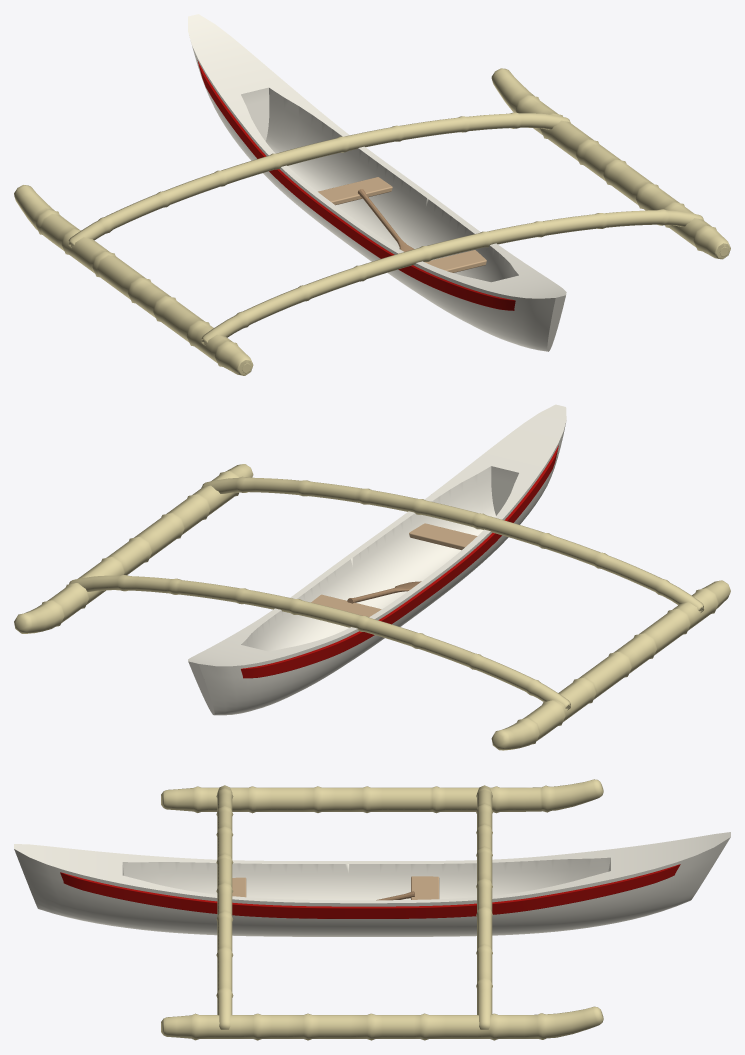
File: boat_bangka_17838.glb
3 views of the same model, one above another, from view 1: azimuth 30°, elevation 25°; view 2: azimuth 150°, elevation 25°; view 3: azimuth 270°, elevation 25° (orthographic). The views are drawn at different scales.
Visible parts, largest first — view 1: bangka_17838_bamboo, bangka_17838_paint_hull, bangka_17838_paint_trim, bangka_17838_plank; view 2: bangka_17838_bamboo, bangka_17838_paint_hull, bangka_17838_paint_trim, bangka_17838_plank; view 3: bangka_17838_paint_hull, bangka_17838_bamboo, bangka_17838_paint_trim, bangka_17838_plank.
Boxes of the visible parts, <box> form: bangka_17838_bamboo: <box>14,68,730,375</box>; bangka_17838_paint_hull: <box>188,14,566,351</box>; bangka_17838_paint_trim: <box>197,60,515,310</box>; bangka_17838_plank: <box>318,177,486,272</box>; bangka_17838_bamboo: <box>14,464,730,750</box>; bangka_17838_paint_hull: <box>188,404,566,715</box>; bangka_17838_paint_trim: <box>241,445,558,678</box>; bangka_17838_plank: <box>311,523,477,616</box>; bangka_17838_paint_hull: <box>14,832,730,936</box>; bangka_17838_bamboo: <box>161,779,603,1040</box>; bangka_17838_paint_trim: <box>60,864,680,918</box>; bangka_17838_plank: <box>232,876,439,899</box>.
Size of the model in its own units: 4.84 by 0.924 by 6.12.
